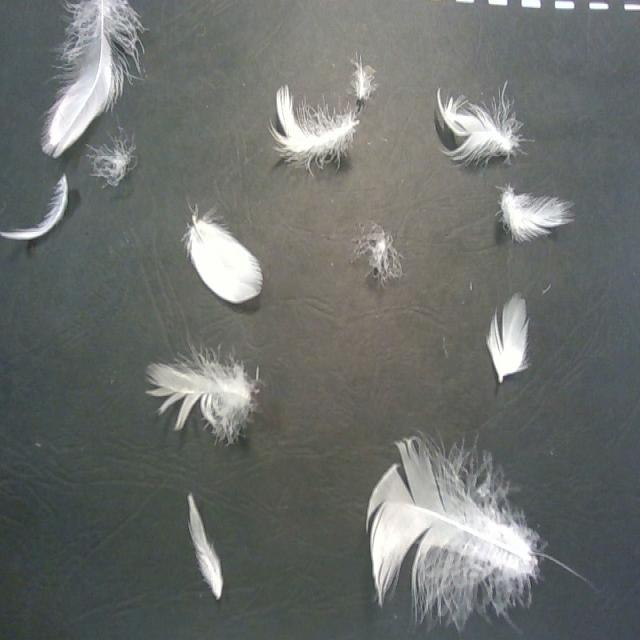feather: (363, 424, 542, 611), (37, 0, 139, 156), (145, 343, 259, 444), (429, 81, 526, 167), (178, 204, 262, 303), (267, 83, 361, 168), (0, 165, 70, 244), (182, 489, 229, 602), (491, 182, 572, 246), (482, 288, 535, 385), (86, 124, 139, 187), (355, 217, 402, 284), (347, 51, 374, 105)
